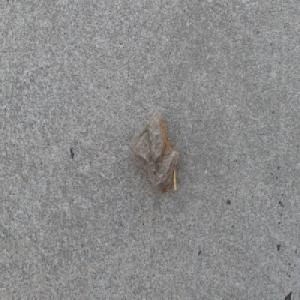Rock: (128, 108, 179, 195)
